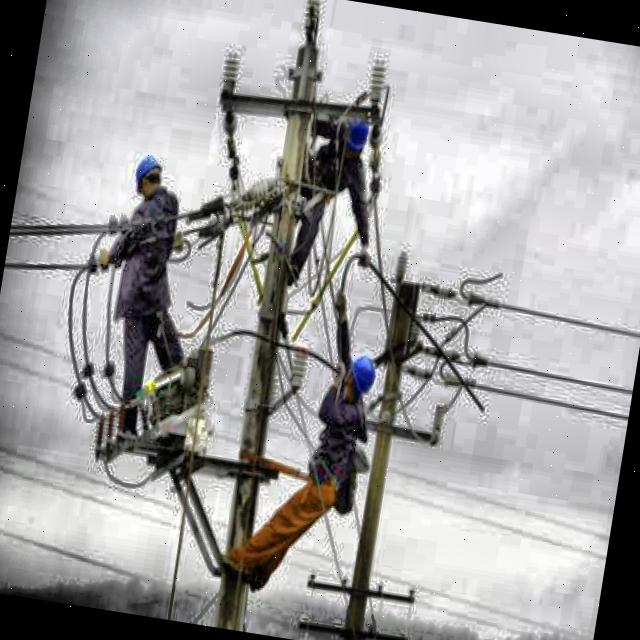helmet: (334, 102, 374, 157), (129, 147, 166, 197), (342, 348, 377, 398)
